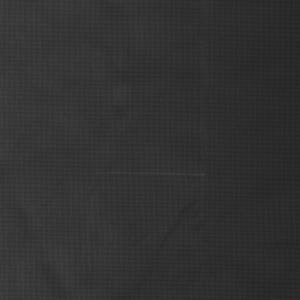Wrinkle: (117, 193, 206, 300), (1, 187, 83, 300)
